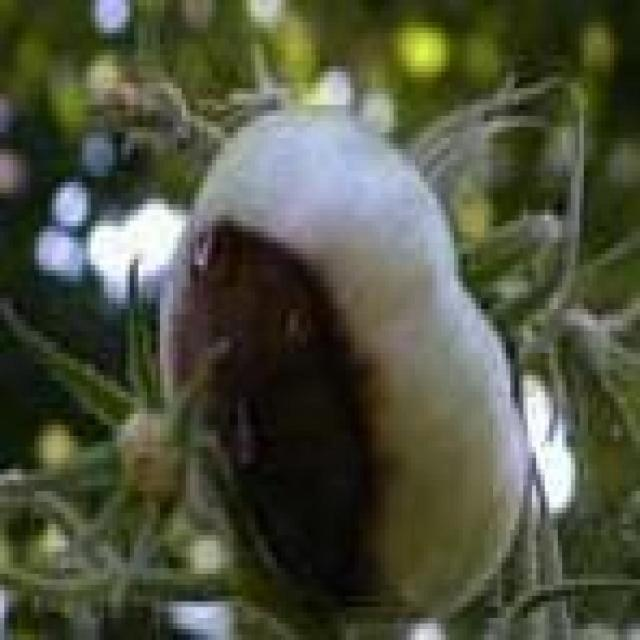Blossom End Rot Fruit: (108, 138, 261, 403)
